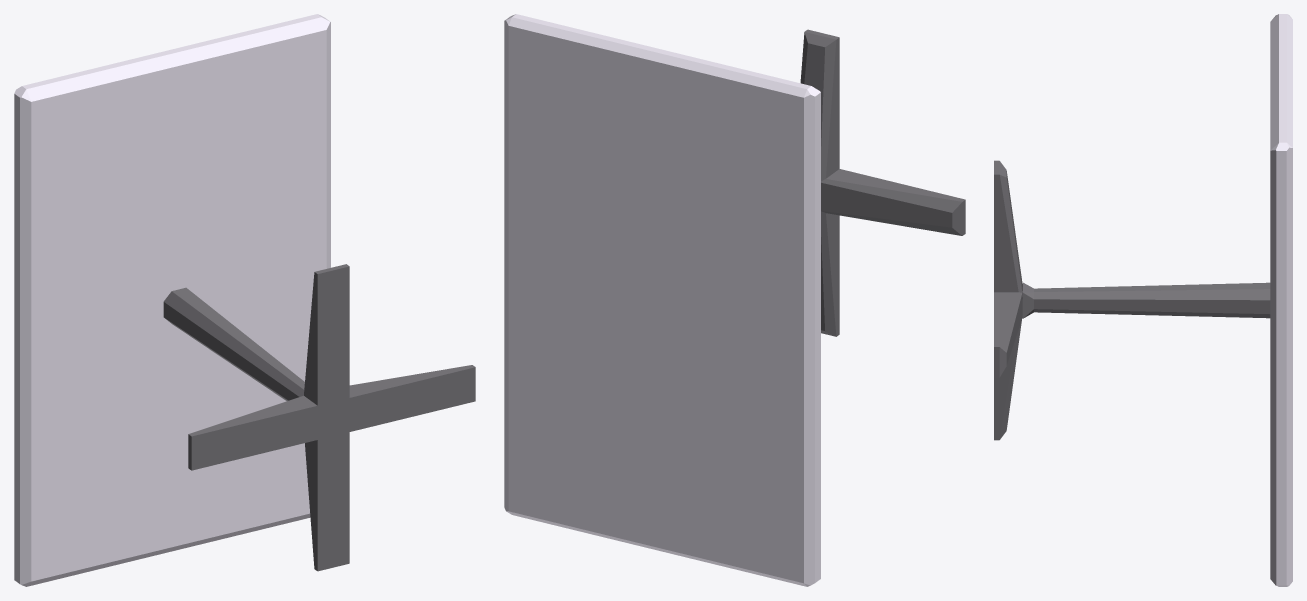
File: table.fbx
3 renders of one model, left to right at view 1: azimuth 30°, elevation 25°; view 2: azimuth 150°, elevation 25°; view 3: azimuth 270°, elevation 25°, orthographic. The views are drawn at different scales.
Parts seen in each view (by area): view 1: Cube.008, Cube.004, Cube.005, Cube.003; view 2: Cube.008, Cube.004, Cube.005; view 3: Cube.008, Cube.003, Cube.005, Cube.004.
Part boxes in pixels (bbox=[...]): Cube.008: bbox=[14, 14, 330, 586]; Cube.004: bbox=[188, 365, 475, 470]; Cube.005: bbox=[304, 264, 349, 571]; Cube.003: bbox=[163, 287, 304, 400]; Cube.008: bbox=[504, 14, 820, 586]; Cube.004: bbox=[821, 169, 965, 235]; Cube.005: bbox=[800, 29, 839, 336]; Cube.008: bbox=[1270, 14, 1292, 586]; Cube.003: bbox=[1022, 282, 1270, 318]; Cube.005: bbox=[994, 160, 1022, 440]; Cube.004: bbox=[994, 283, 1022, 377].
Bounding box in the file's own units: 88.2 × 135 × 82.28.
Materials: 2 (2 with a texture image).
